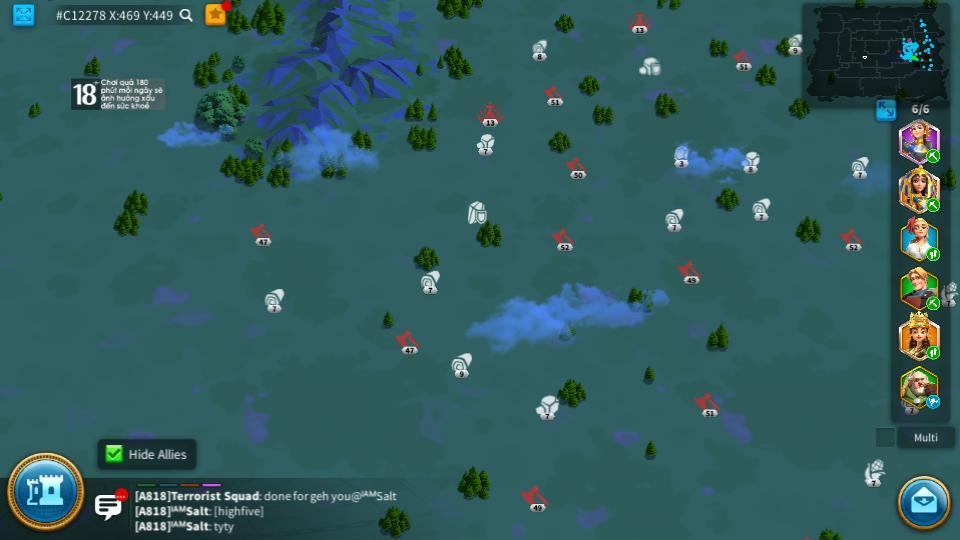march_idle: (925, 396, 941, 408)
march_marching: (925, 199, 941, 212), (925, 347, 941, 359), (925, 150, 941, 162), (925, 297, 942, 308), (925, 250, 941, 261)
